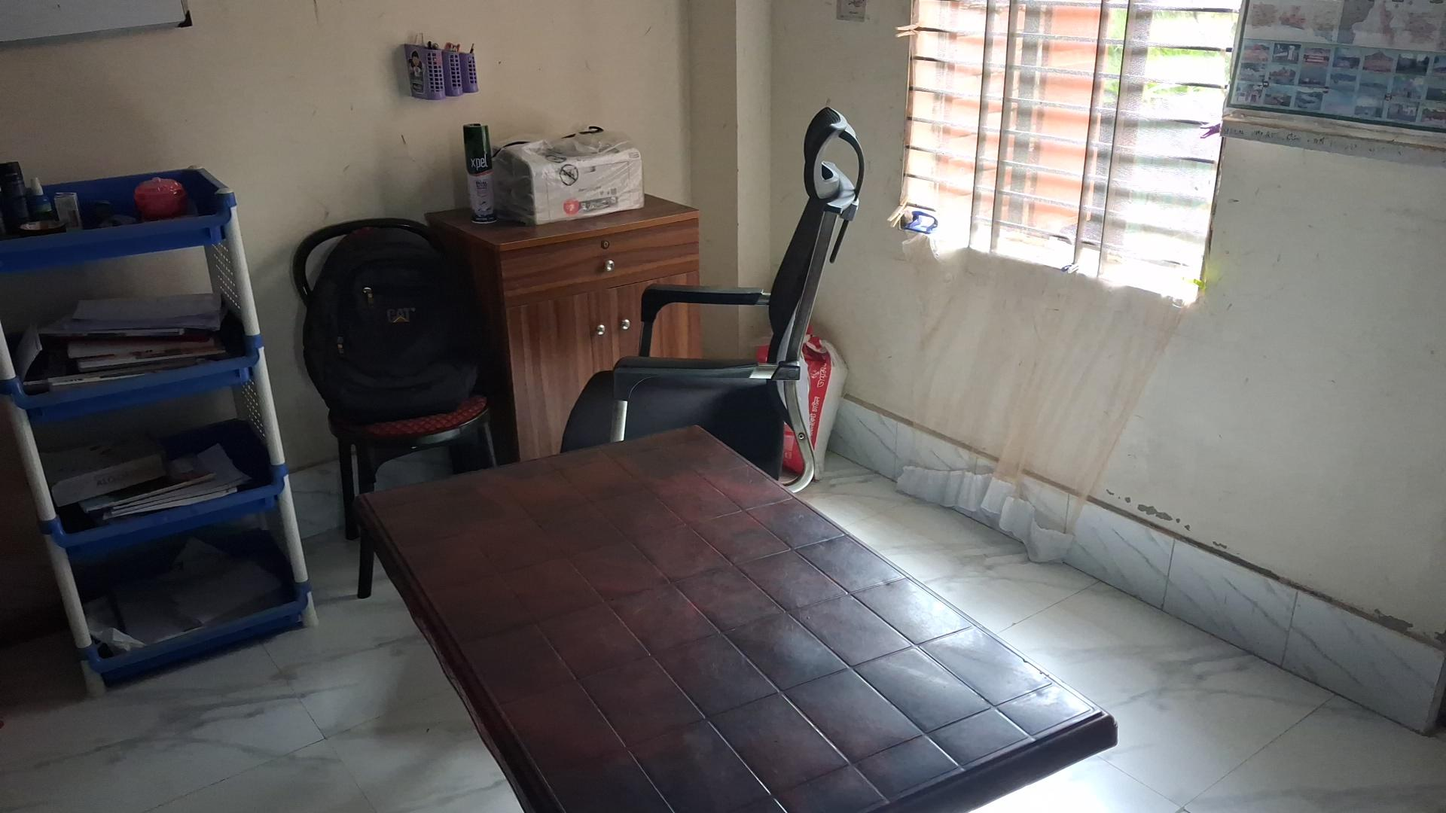Bag: (303, 229, 487, 414)
Bottle: (462, 123, 495, 222)
Chair: (560, 103, 864, 485)
Pen Stand: (402, 33, 479, 97)
Rack: (2, 155, 317, 699)
Table: (352, 425, 1116, 813)
Window: (902, 0, 1239, 315)
